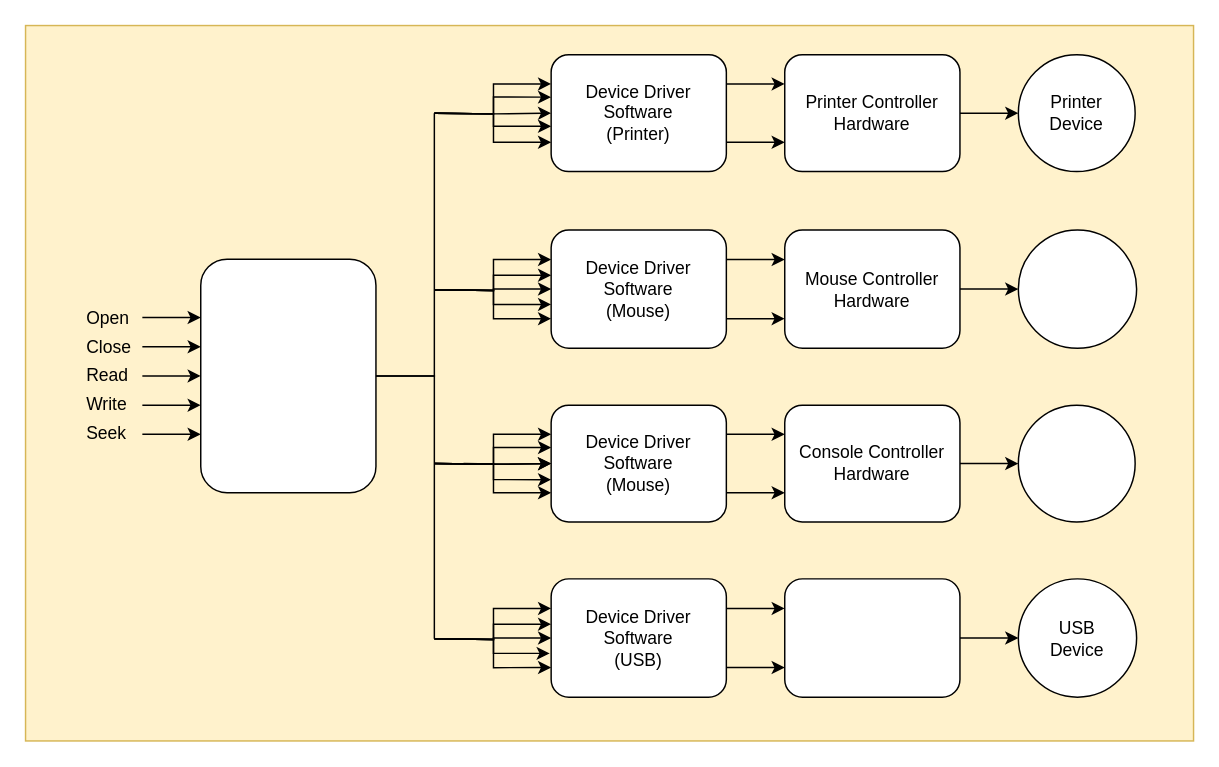
Image size: 1219x767. Some labels were removed from this diagram. The shapes that lost their labels are listed below. From the top down, each one's box as (x1, y1, x2, y2) in pixels, then its label:
(1017, 228, 1137, 348): Mouse Device
(199, 258, 376, 493): File/Device System Call Interface
(1017, 404, 1135, 522): Console Device
(783, 577, 960, 697): USB Controller Hardware
